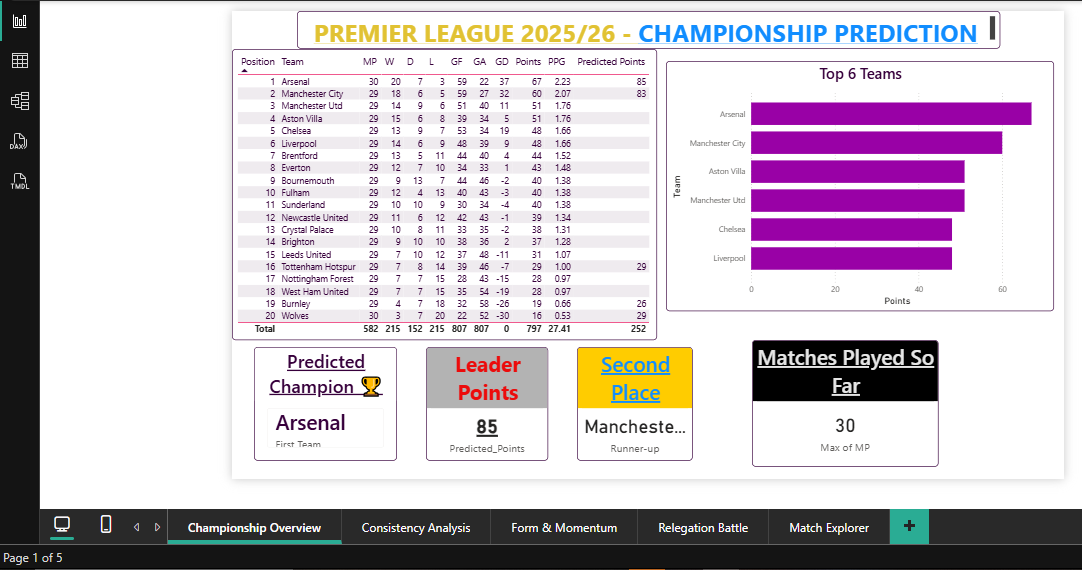

This screenshot's page, from the dashboard's own definition file:
{"tool":"powerbi","page":{"name":"Championship Overview","canvas":[1280,720],"ordinal":0},"visuals":[{"type":"textbox","box":[100,0,1082,58],"z":0},{"type":"tableEx","fields":{"Values":["Standings.Position","Standings.Team","Sum(Standings.MP)","Sum(Standings.W)","Sum(Standings.D)","Sum(Standings.L)","Sum(Standings.GF)","Sum(Standings.GA)","Sum(Standings.GD)","Sum(Standings.Pts)","Sum(Standings.PPG)","Sum(PL_Predictions_Summary.Predicted_Points)"]},"box":[0,58,654,448],"z":1000},{"type":"clusteredBarChart","title":"Top 6 Teams","fields":{"Category":["Standings.Team"],"Y":["Max(Standings.Pts)"]},"box":[668.3,76.7,596.7,385],"z":2000},{"type":"card","title":"Leader Points","fields":{"Values":["Sum(PL_Predictions_Summary.Predicted_Points)"]},"box":[298.3,516.7,188.3,175],"z":3000},{"type":"card","title":"Second Place","fields":{"Values":["Min(PL_Predictions_Summary.Team)"]},"box":[530,516.7,178.3,175],"z":4000},{"type":"card","title":"Matches Played So Far","fields":{"Values":["Max(Standings.MP)"]},"box":[800,506.7,286.7,195],"z":5000},{"type":"cardVisual","title":"Predicted Champion 🏆","fields":{"Data":["Min(PL_Predictions_Summary.Team)"]},"box":[33.3,516.7,220,175],"z":6000}]}

Visuals, with their boxes on the page's 1280x720 design canvas (x1, y1, x2, y2). These are canvas units, not pixel positions in the 1082x570 screenshot, which may show the page scaled, cropped or inside an application window:
textbox: (x1=100, y1=0, x2=1182, y2=58)
tableEx - Standings.Position x Standings.Team: (x1=0, y1=58, x2=654, y2=506)
"Top 6 Teams" clusteredBarChart: (x1=668, y1=77, x2=1265, y2=462)
"Leader Points" card: (x1=298, y1=517, x2=487, y2=692)
"Second Place" card: (x1=530, y1=517, x2=708, y2=692)
"Matches Played So Far" card: (x1=800, y1=507, x2=1087, y2=702)
"Predicted Champion 🏆" cardVisual: (x1=33, y1=517, x2=253, y2=692)
